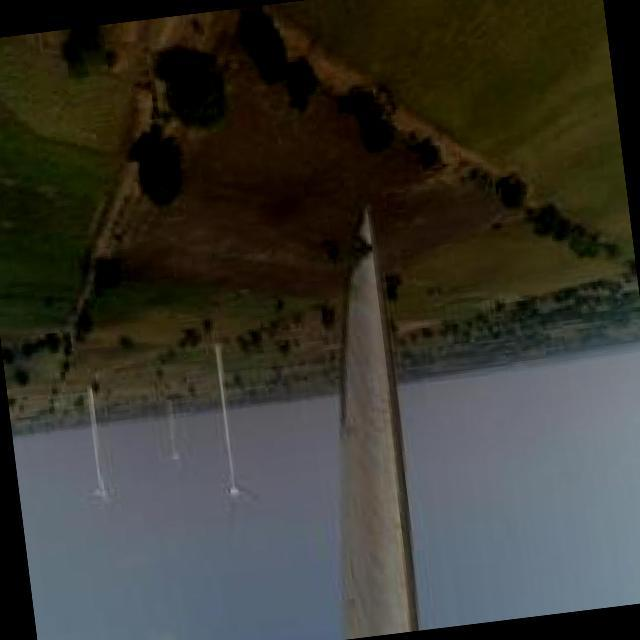Dirt: (333, 211, 423, 634)
Oil LEAKAGE: (336, 211, 381, 424)
